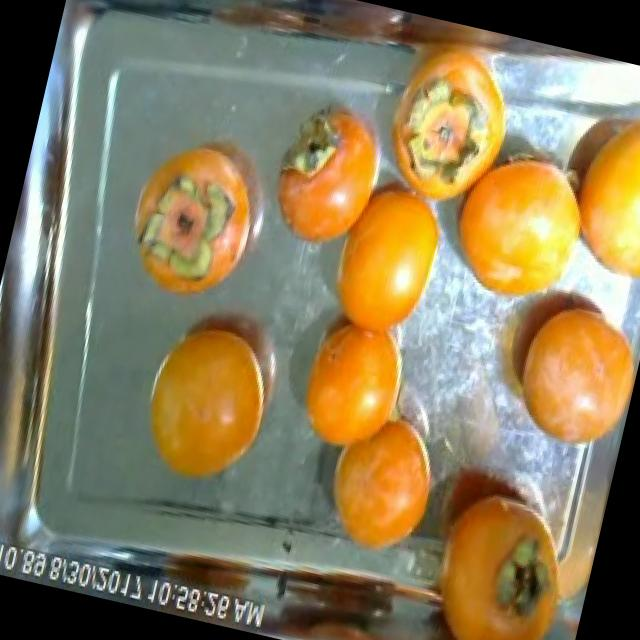Fruit: (423, 105, 618, 335), (453, 238, 640, 474), (120, 296, 304, 510), (356, 18, 536, 230), (107, 108, 282, 322), (298, 385, 462, 578), (276, 268, 424, 474), (248, 78, 400, 271)
